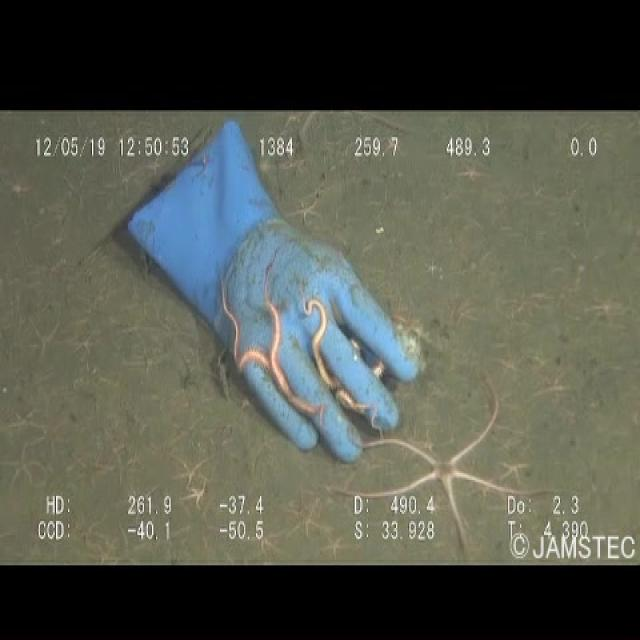plastic: (117, 117, 423, 473)
